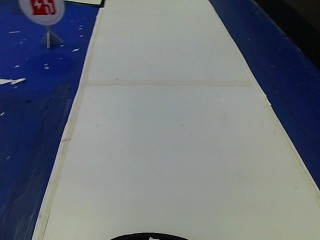battery: (16, 0, 66, 26)
